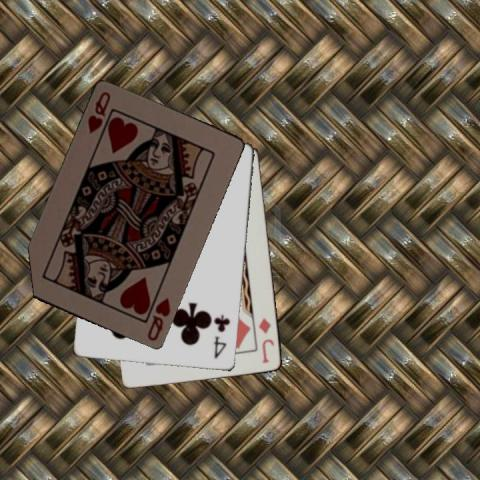4c: (211, 311, 231, 360)
Jd: (256, 316, 276, 366)
Qh: (145, 295, 172, 343), (85, 89, 112, 136)
